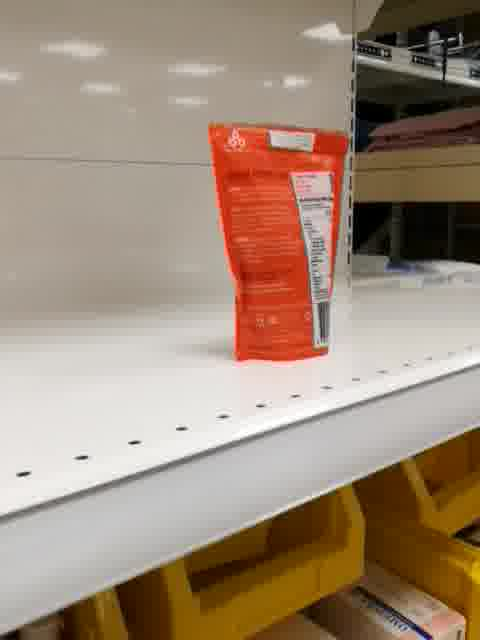whitechia: (204, 123, 351, 365)
